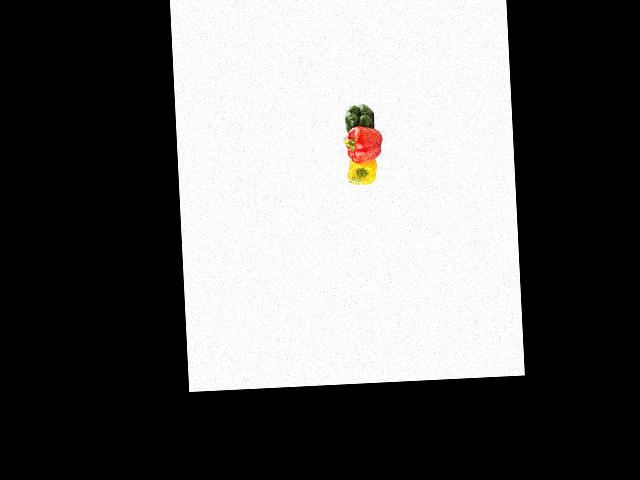bell_pepper: (343, 155, 383, 187)
